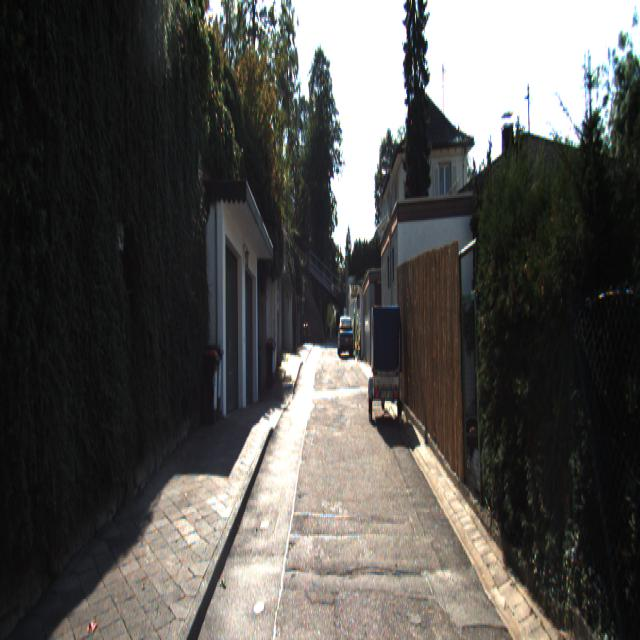Car: (369, 303, 407, 429), (337, 315, 354, 359)
